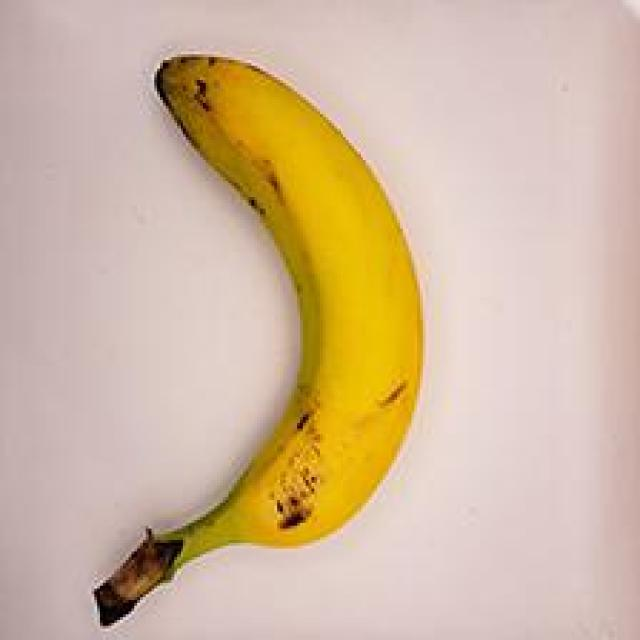ripe: (73, 44, 441, 640)
